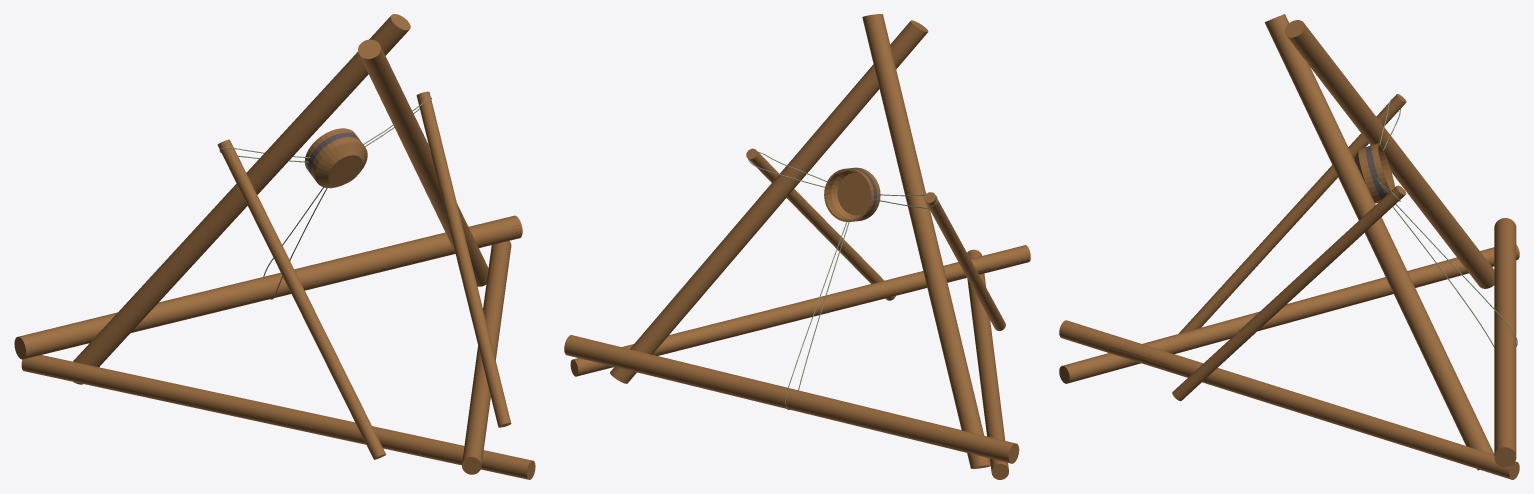
File: catapulta.fbx
3 renders of one model, left to right at view 1: azimuth 30°, elevation 25°; view 2: azimuth 150°, elevation 25°; view 3: azimuth 270°, elevation 25°, orthographic. The views are drawn at different scales.
Visible parts, largest first — view 1: Soporte3, Soporte2, Soporte1, Soporte5, Soporte4, CajaDeTiro; view 2: Soporte3, Soporte1, Soporte2, CajaDeTiro, Soporte4, Soporte5, CuerdaAbajo; view 3: Soporte3, Soporte2, Soporte1, Soporte4, Soporte5, CajaDeTiro, CuerdaAbajo.
Part boxes in pixels (x1,y1,x2,y2): Soporte3: [73, 14, 488, 384]; Soporte2: [21, 241, 535, 479]; Soporte1: [14, 215, 522, 359]; Soporte5: [217, 139, 385, 459]; Soporte4: [416, 91, 511, 427]; CajaDeTiro: [305, 128, 367, 188]; Soporte3: [610, 14, 990, 468]; Soporte1: [564, 335, 1019, 463]; Soporte2: [570, 245, 1030, 479]; CajaDeTiro: [824, 167, 880, 221]; Soporte4: [746, 148, 895, 300]; Soporte5: [924, 192, 1005, 330]; CuerdaAbajo: [785, 222, 849, 409]; Soporte3: [1264, 14, 1494, 470]; Soporte2: [1059, 245, 1519, 479]; Soporte1: [1494, 218, 1516, 467]; Soporte4: [1172, 185, 1406, 401]; Soporte5: [1178, 94, 1406, 333]; CajaDeTiro: [1354, 143, 1394, 203]; CuerdaAbajo: [1392, 204, 1517, 347].
Bounding box in the file's own units: 192 × 142 × 163.
Materials: 1 (1 with a texture image).
